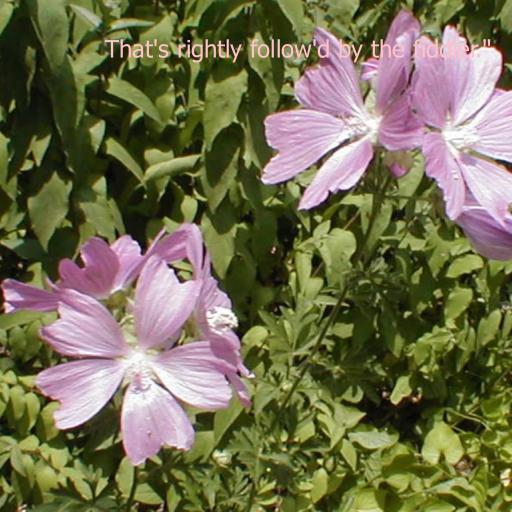Tahoma: (104, 39, 492, 63)
